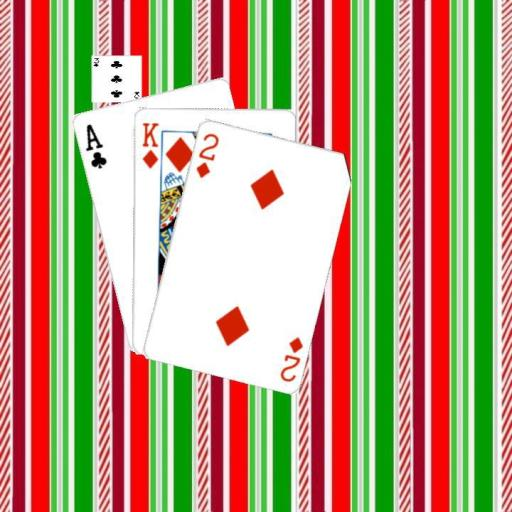2D: (193, 130, 220, 180), (277, 334, 304, 384)
AC: (82, 120, 108, 170)
KD: (139, 119, 160, 170)
